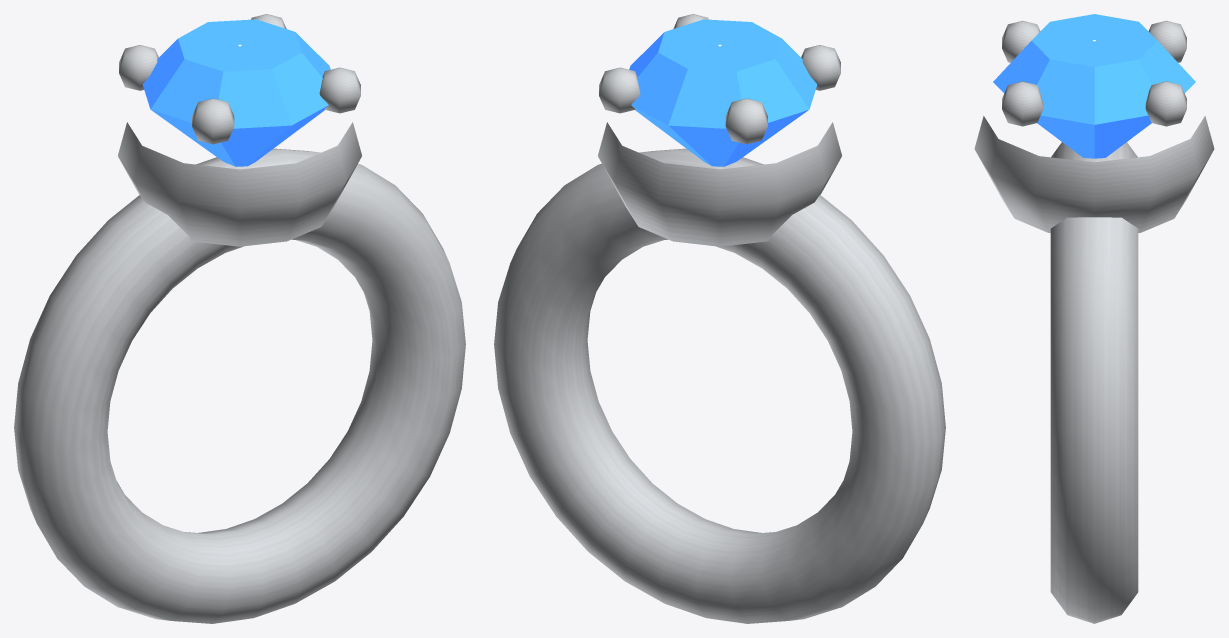
File: stolen_ring.glb
The picture shows the model from 3 angles, left to right: view 1: azimuth 30°, elevation 25°; view 2: azimuth 150°, elevation 25°; view 3: azimuth 270°, elevation 25°; orthographic projection.
Parts seen in each view (by area): view 1: ring; view 2: ring; view 3: ring.
Part boxes in pixels (x1,y1,x2,y2): ring: [14, 14, 465, 623]; ring: [494, 14, 945, 623]; ring: [974, 14, 1214, 623].
Bounding box in the file's own units: 0.027 × 0.0335 × 0.013.
Materials: 2 (1 with a texture image).
